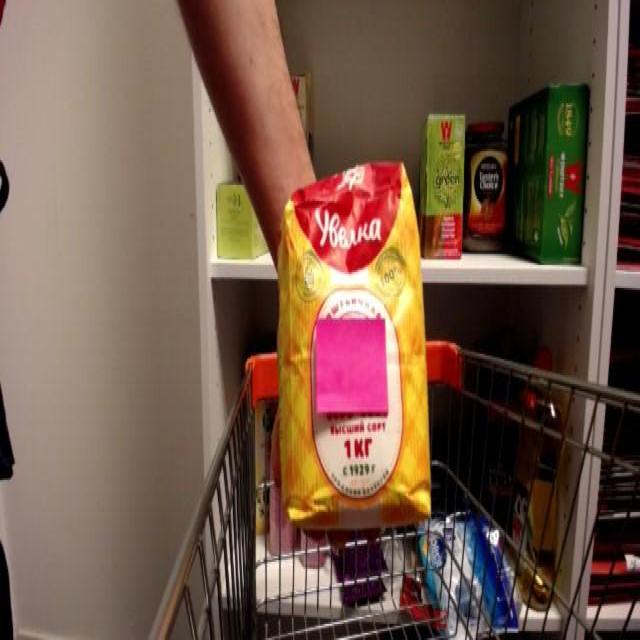Almond Milk: (272, 148, 440, 546)
